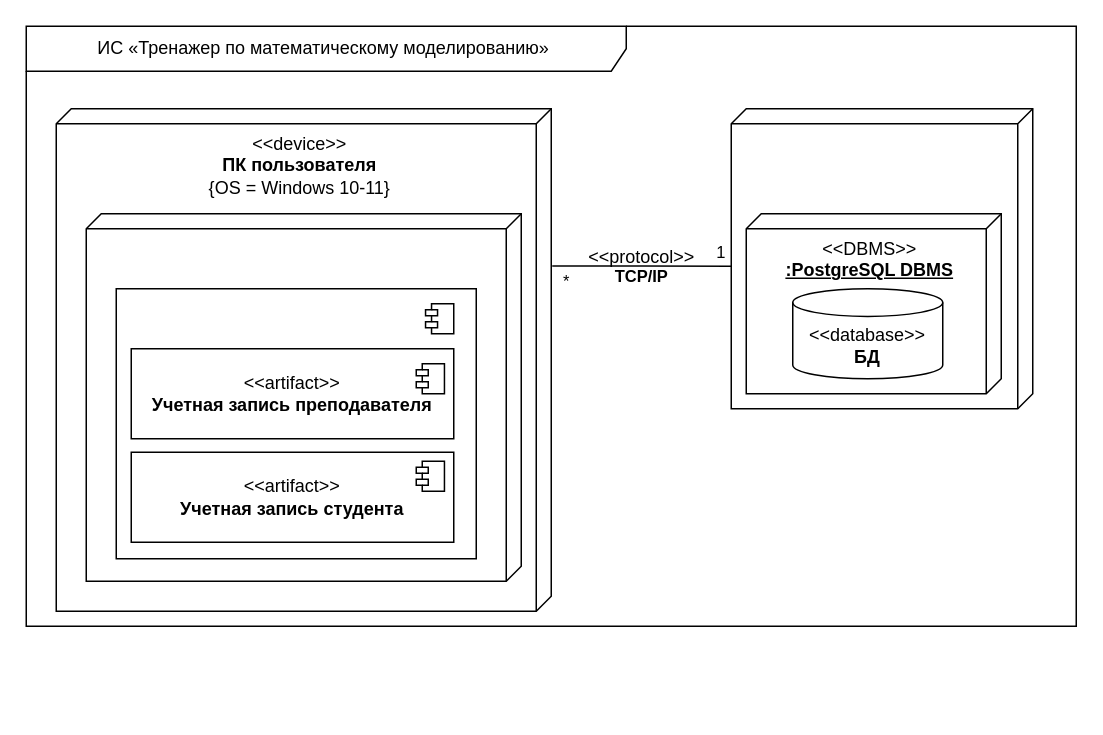
The diagram is 1103 pixels wide and 735 high, and some of its shapes have lost their labels. Each missing label, with the box of its shape:
<< executionEnvironment >> :Avalonia .NET: (85, 212, 521, 581)
<<artifact>> MathModelingSimulator .exe: (115, 287, 476, 559)
<<device>> Сервер БД {OS = Windows 10-11}: (730, 107, 1033, 409)
